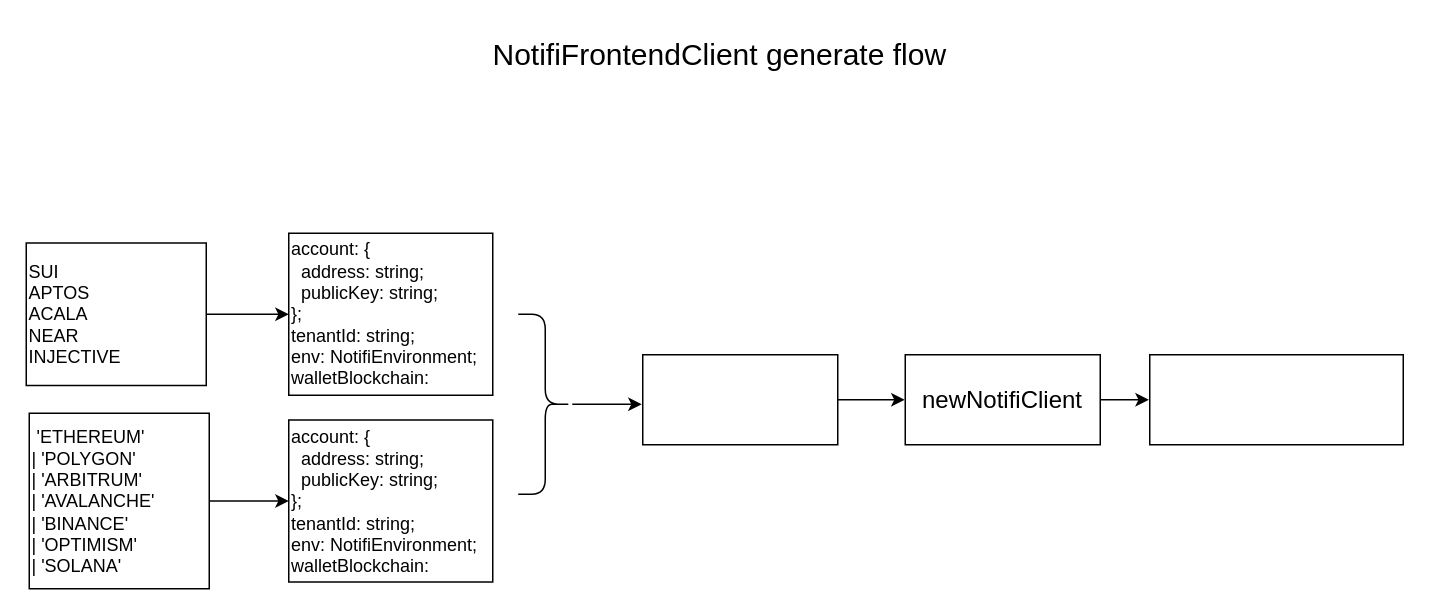
This 1430x615 diagram has some shape labels left out. Here are the shapes that lost their labels. From the top down, the box of each, then its label:
(641, 353, 838, 445): newFrontendConfig
(1148, 353, 1403, 445): NotifiFrontendClient
